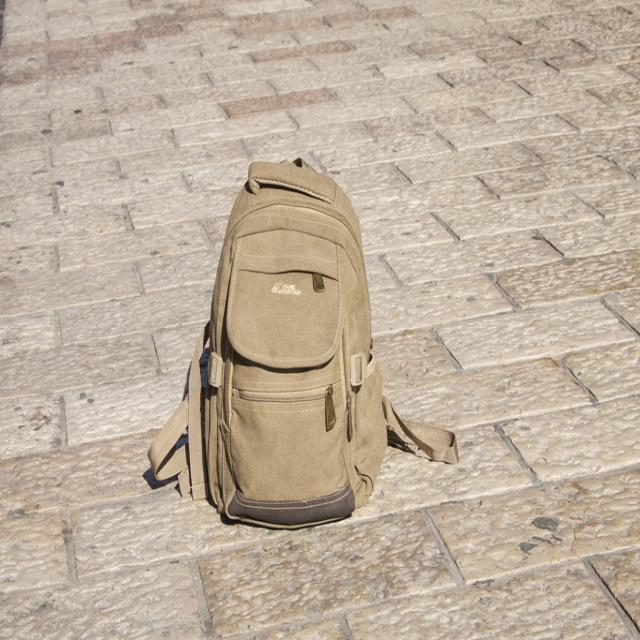backpack: (144, 155, 457, 528)
